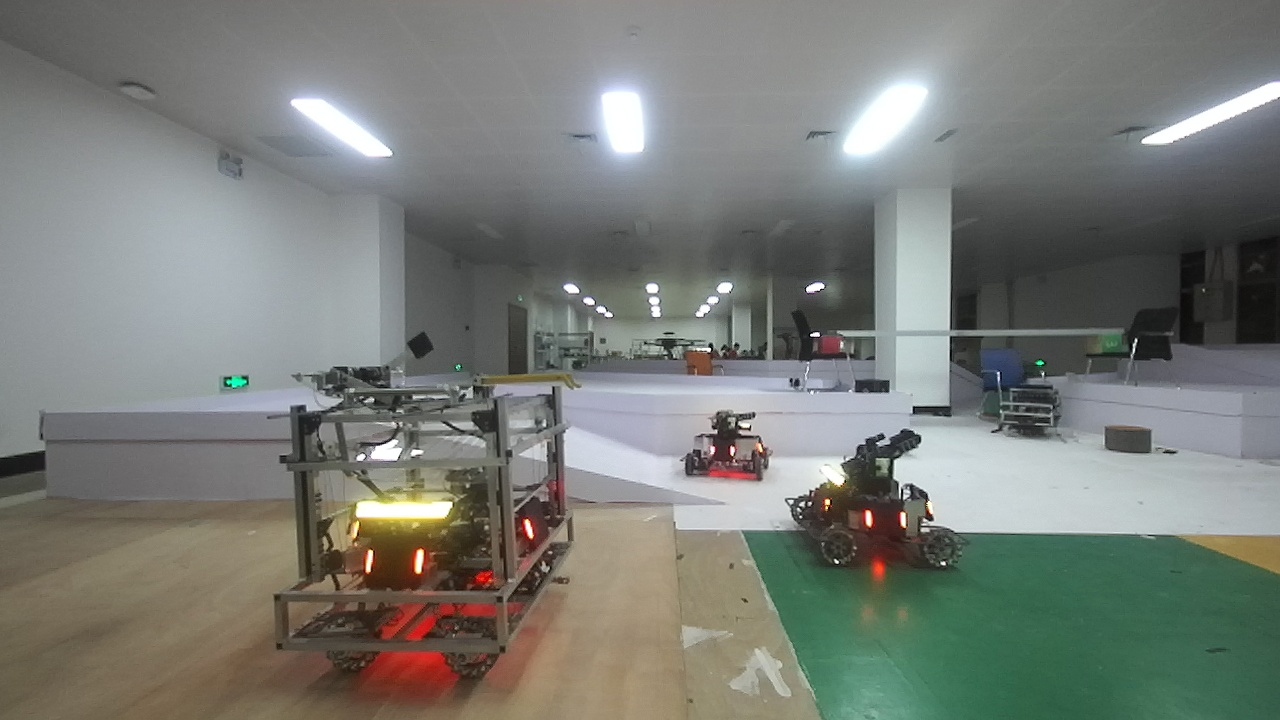car: (262, 373, 608, 680), (796, 423, 965, 580), (681, 404, 796, 477)
